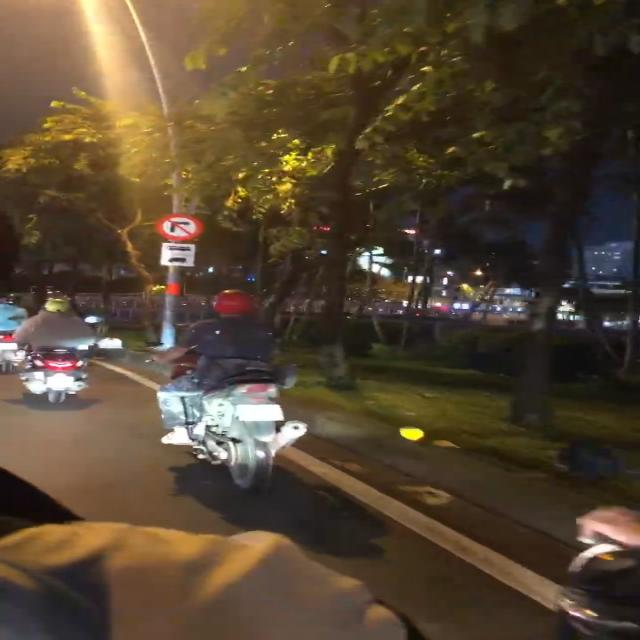Bien bao cam re phai: (152, 210, 204, 241)
